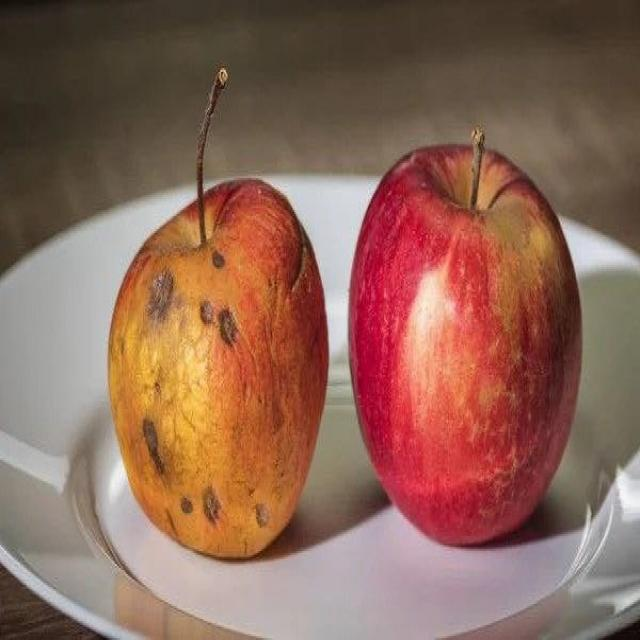fresh_apple: (347, 147, 581, 546)
rotten_apple: (110, 181, 328, 561)
